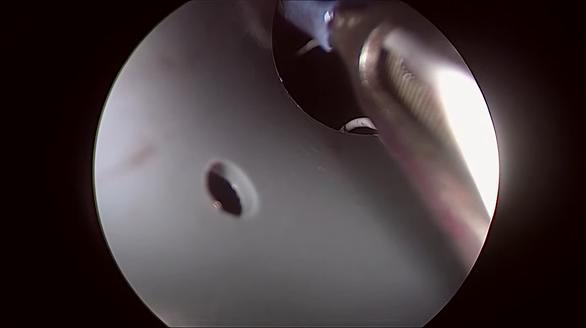Bipolar: (286, 4, 470, 256)
